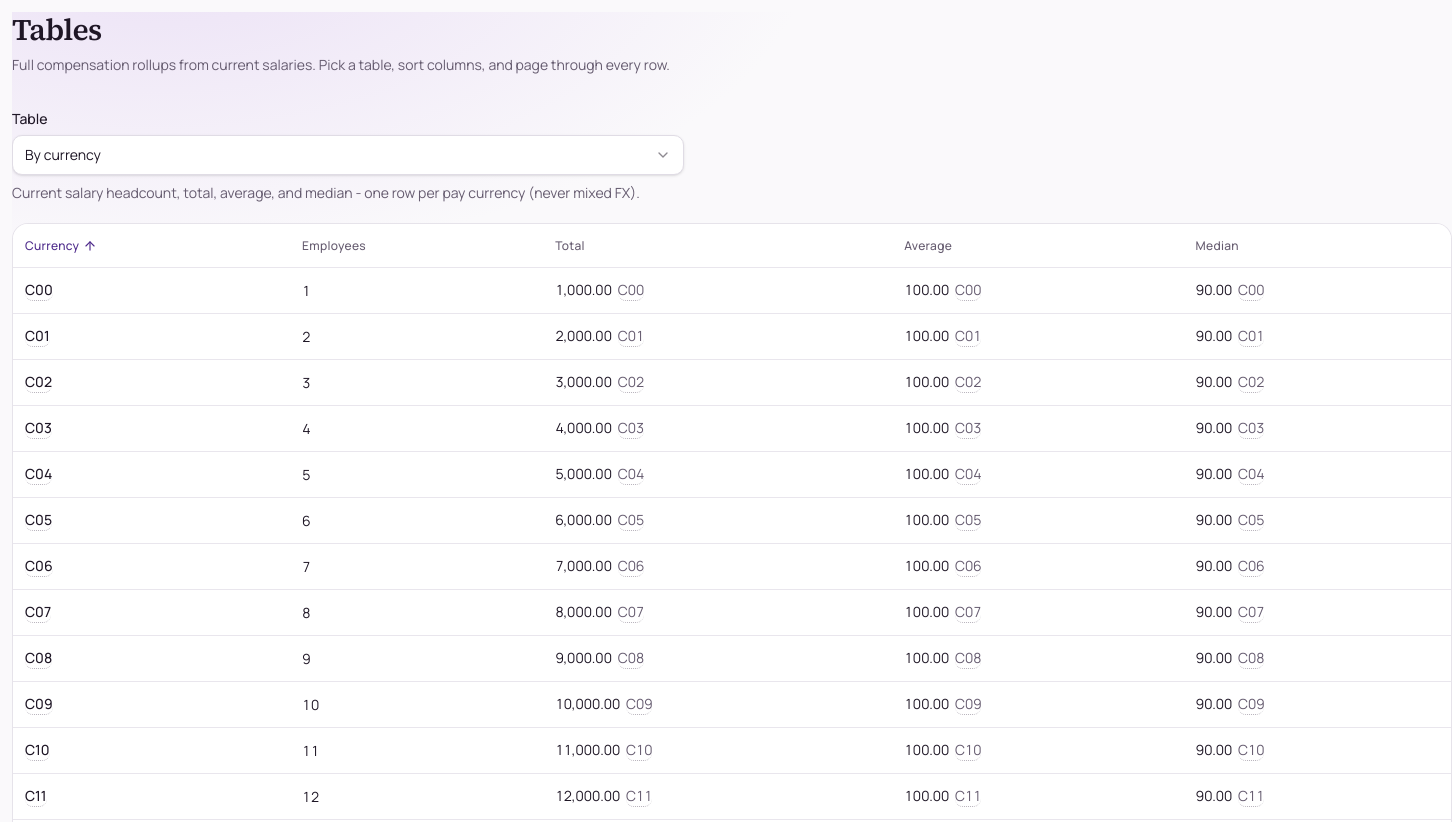
Test: TablesPage › switches view from the descriptive select
Click the dropdown named "Select analytics table": coordinates (63, 154) top-left (12, 135), bottom-right (684, 175)
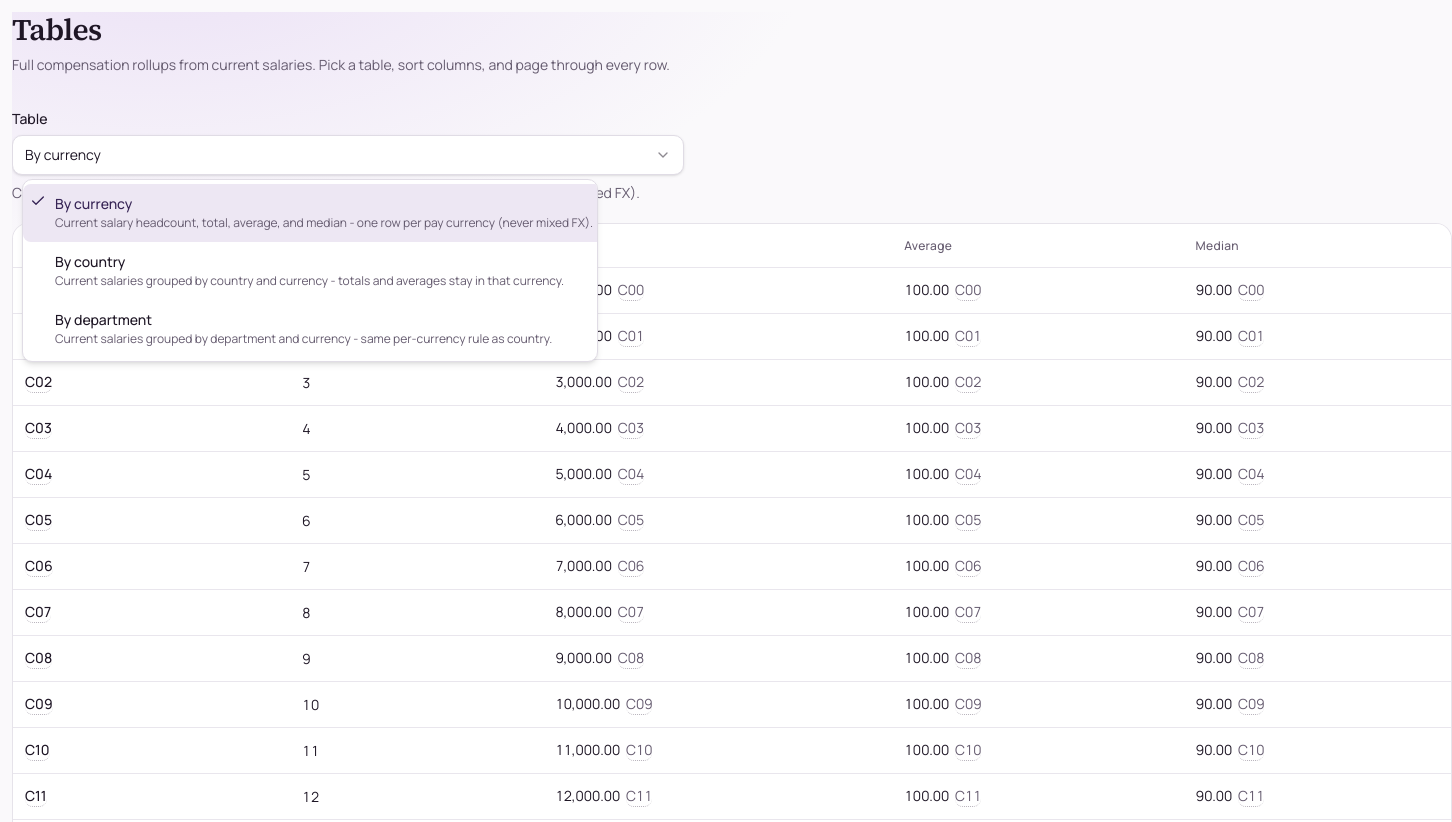
Click the option "By country": coordinates (310, 270) top-left (55, 252), bottom-right (564, 289)
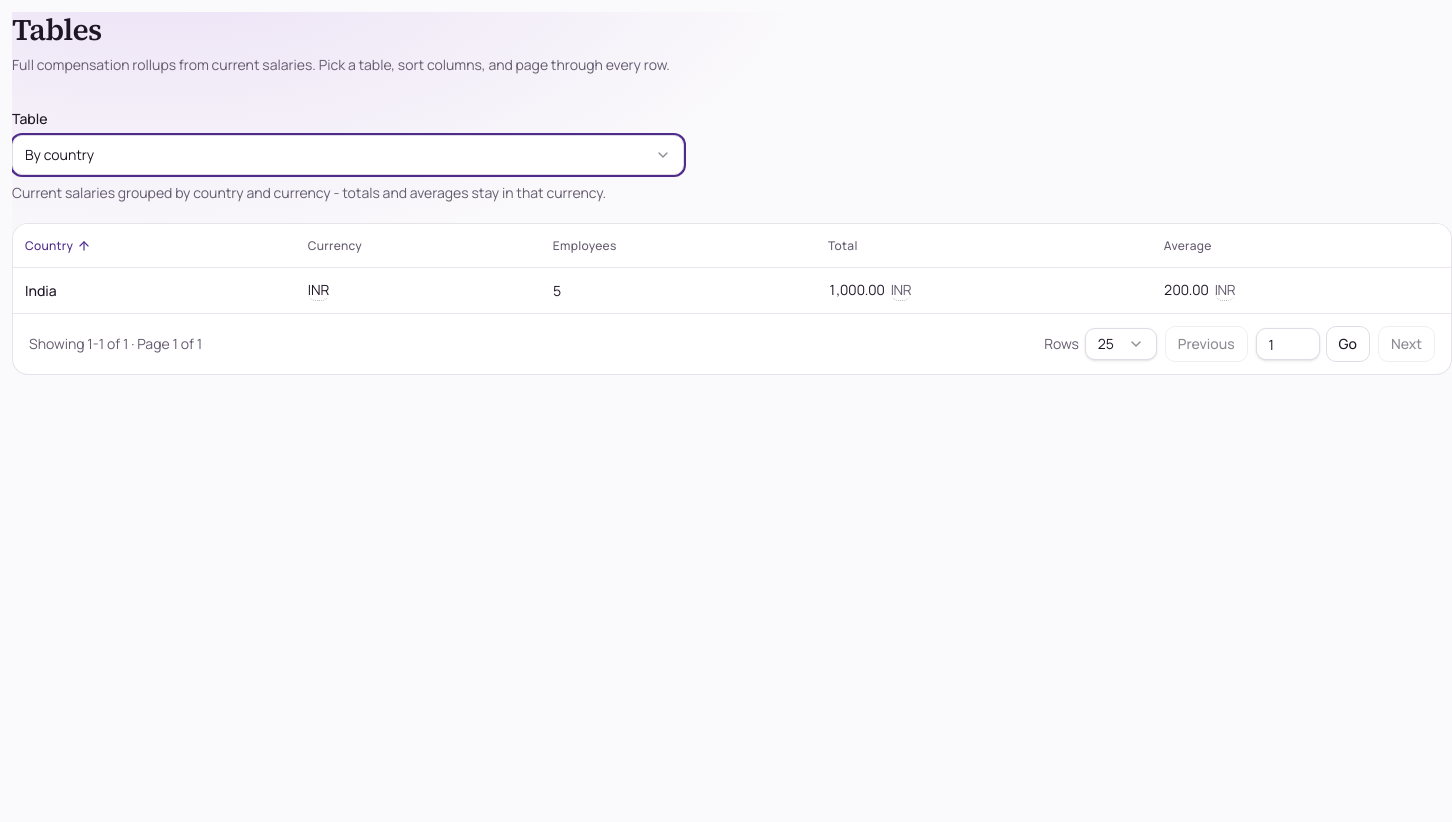
Result: the text "India" is shown at top-left (13, 268), bottom-right (296, 313)
Result: the dropdown named "Select analytics table" reads "By country" at top-left (12, 135), bottom-right (684, 175)
